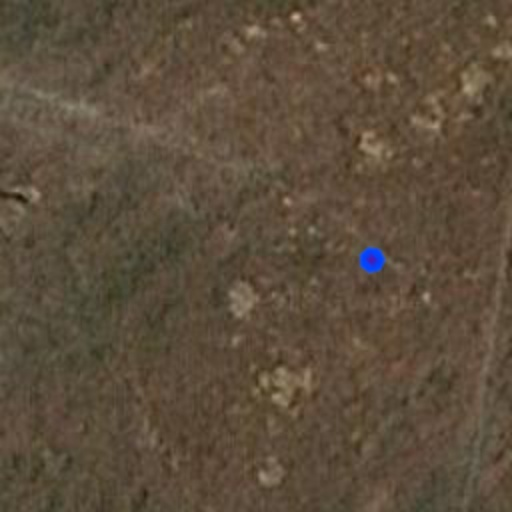heptagon: (352, 240, 392, 280)
